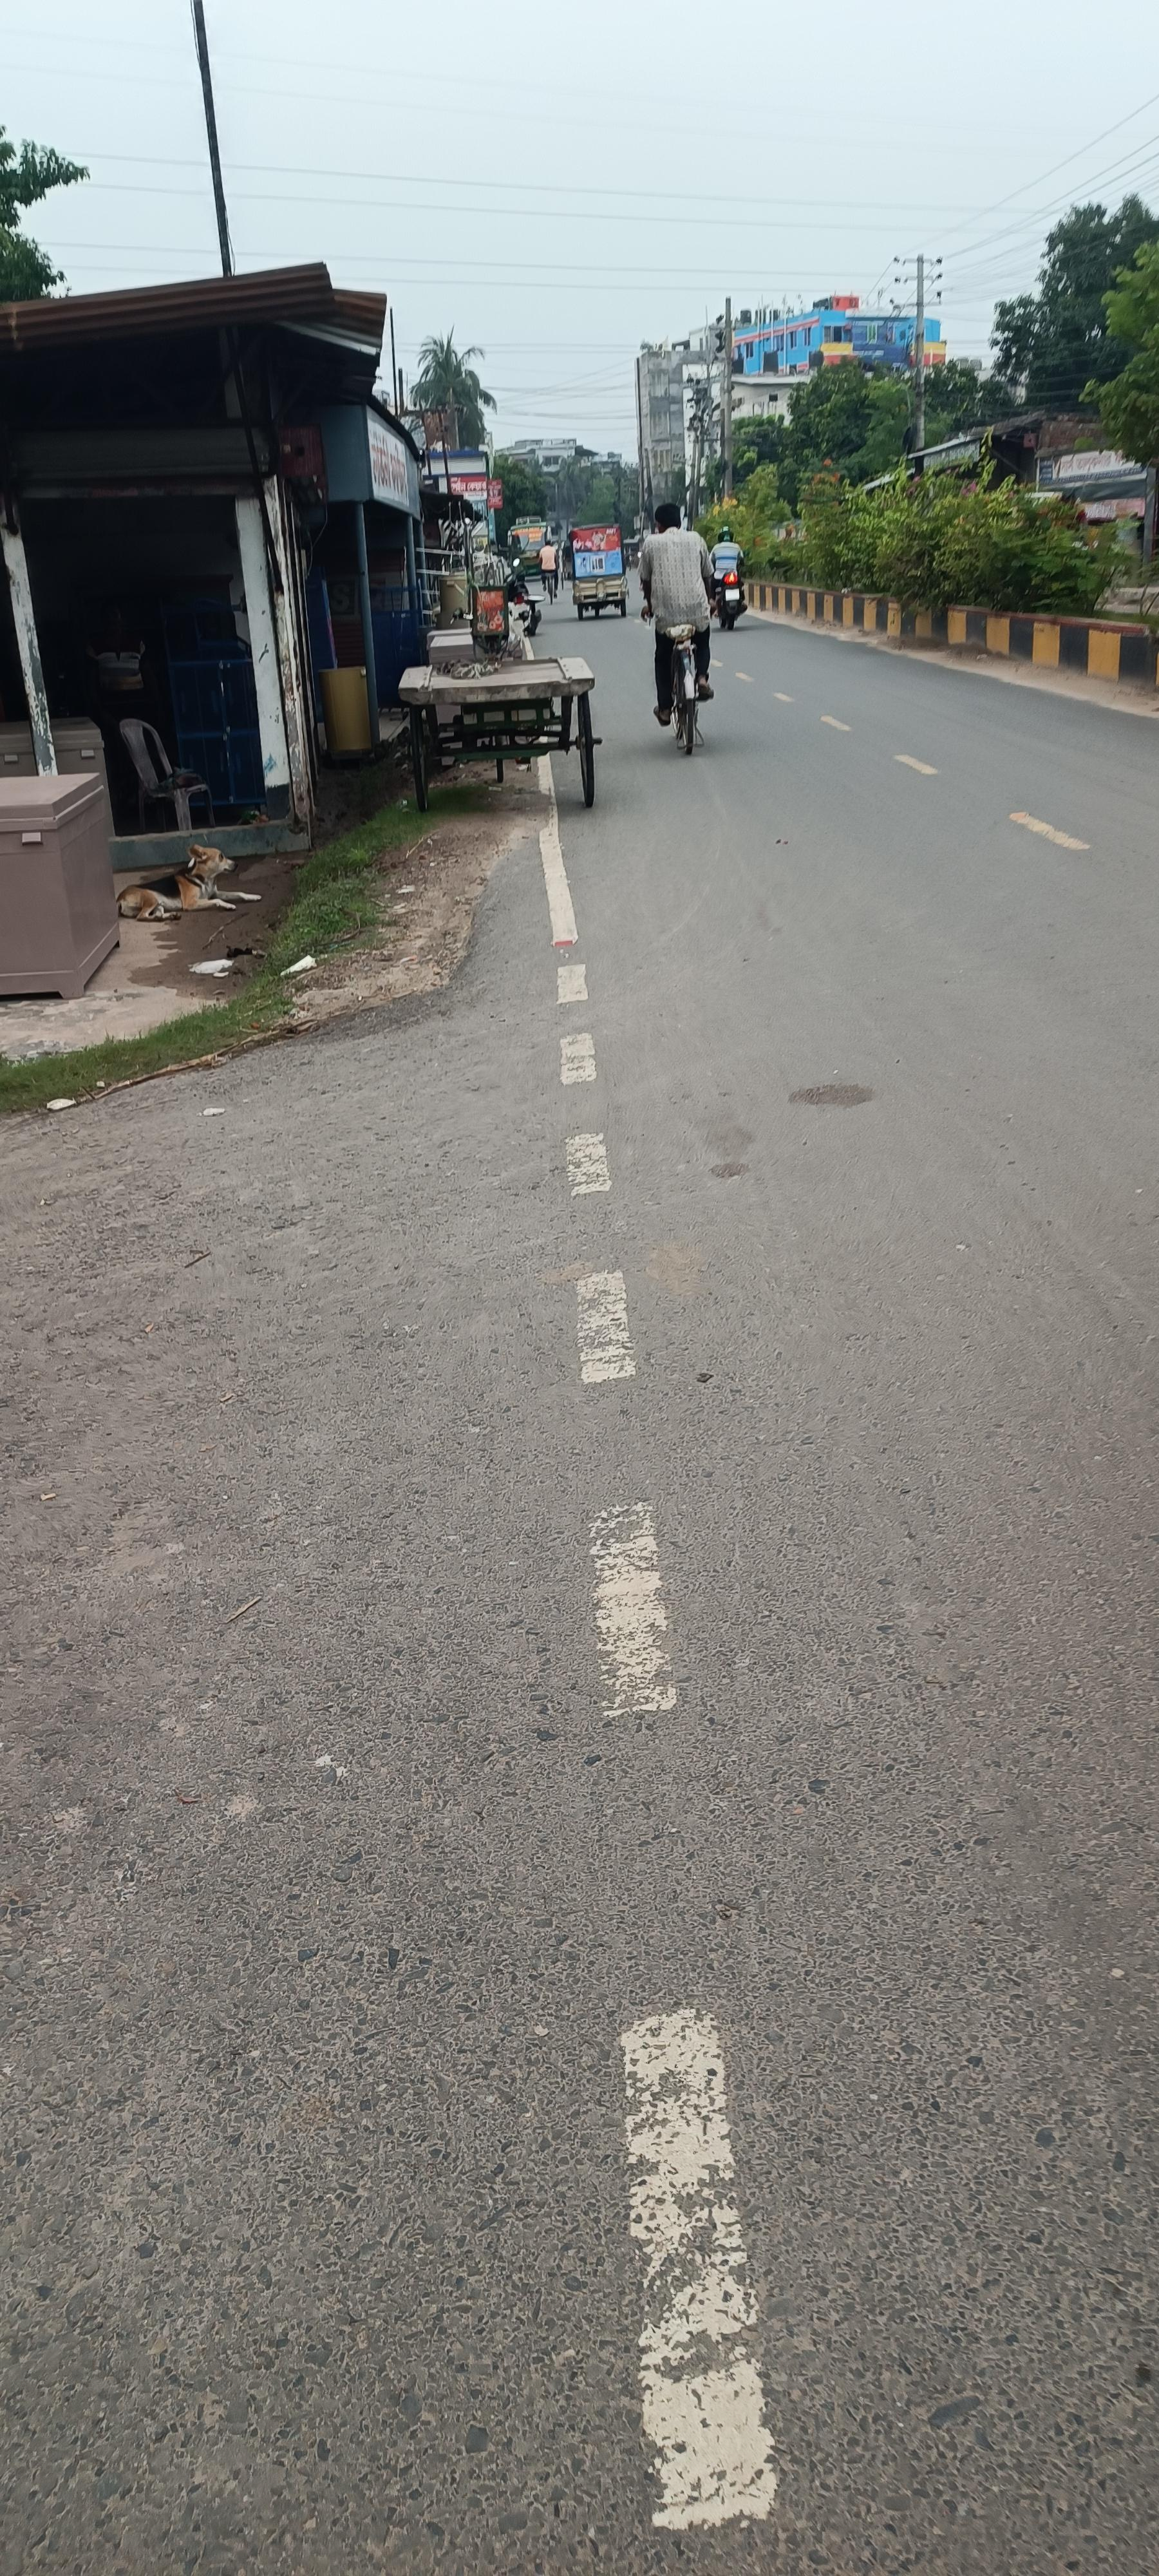Construction-barrier: (786, 522, 1159, 741)
Fallen-tree: (708, 560, 747, 631)
Garbage-bin: (639, 503, 721, 724)
Traffic-cone: (396, 654, 601, 810)
